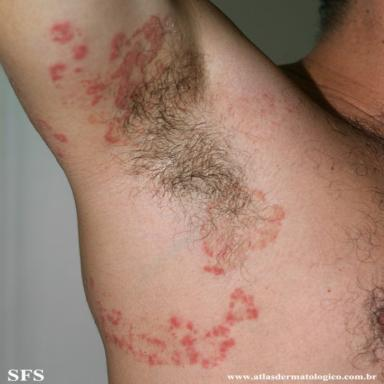Tinea-Corporis: (46, 13, 178, 147), (95, 287, 258, 370), (199, 181, 286, 275), (32, 118, 68, 160)
